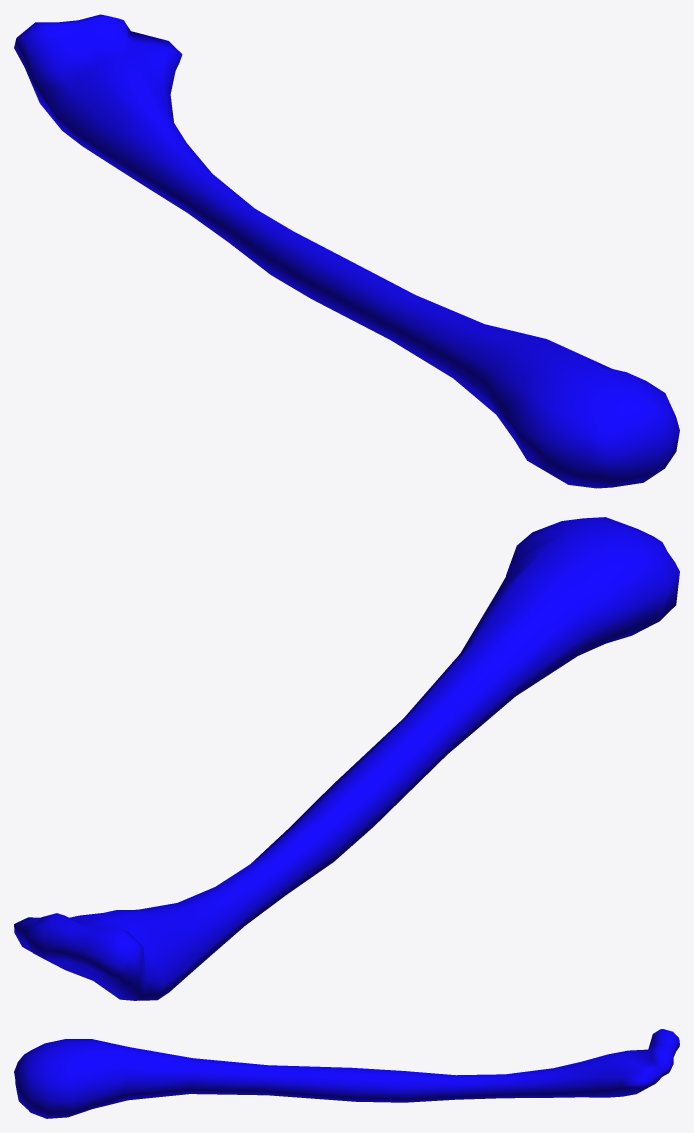
The model's file is SM_L_Humerus.FBX.
3 renders of one model, top to bottom at view 1: azimuth 30°, elevation 25°; view 2: azimuth 150°, elevation 25°; view 3: azimuth 270°, elevation 25°, orthographic. The views are drawn at different scales.
Visible parts, largest first — view 1: L_Humerus; view 2: L_Humerus; view 3: L_Humerus.
Part boxes in pixels (x1,y1,x2,y2): L_Humerus: [14, 14, 679, 488]; L_Humerus: [14, 517, 679, 1000]; L_Humerus: [14, 1029, 679, 1118].
Size of the model in its own units: 4.99 by 3.35 by 31.67.
